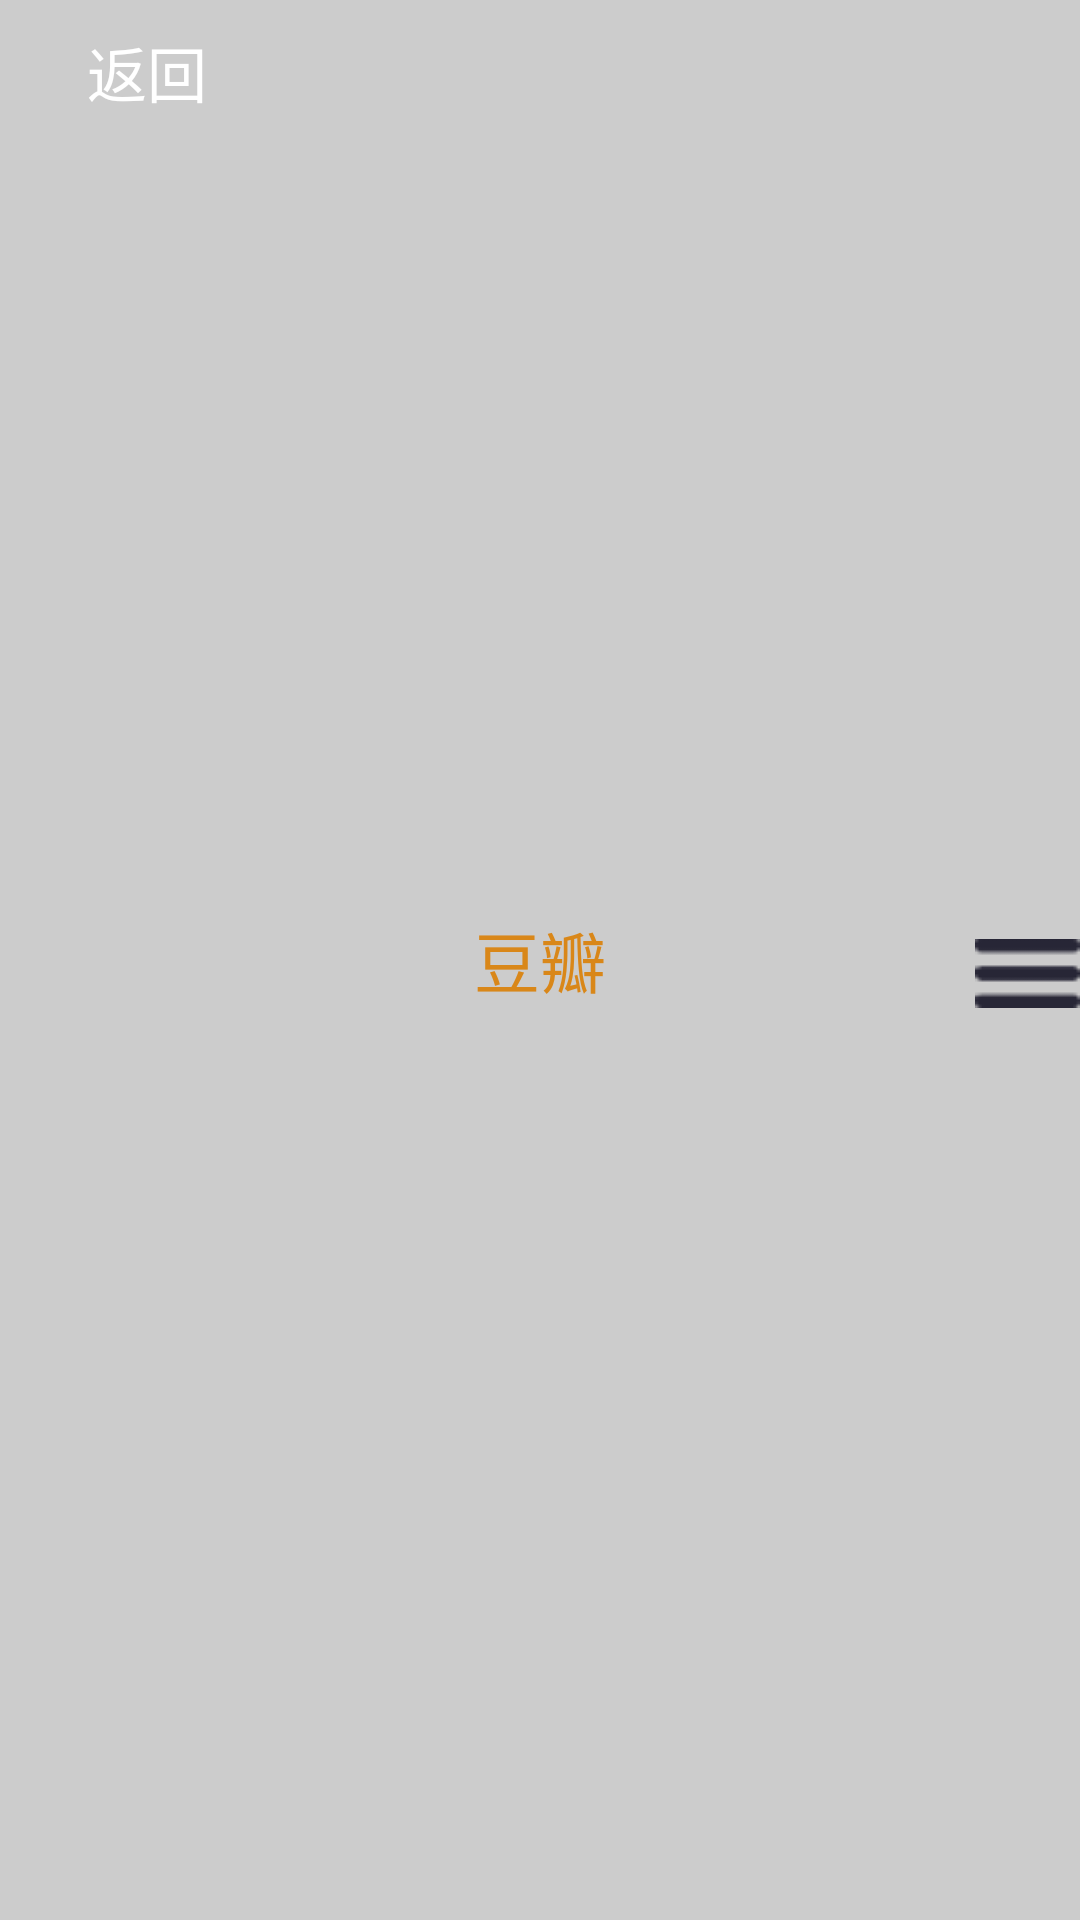

Where icons sit on this 1080 × 1920 app screen, as (x1, y1, x2, y2):
menu: (975, 939, 1080, 1008)
